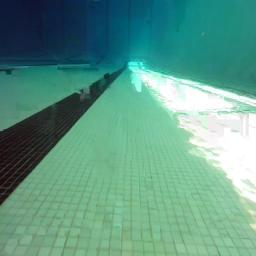Full: (146, 19, 152, 23)
